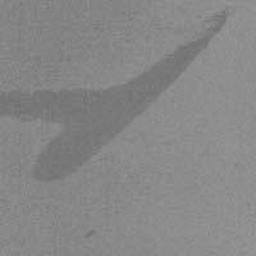Oil spot: (0, 5, 237, 184), (82, 229, 97, 239), (0, 218, 5, 228)
